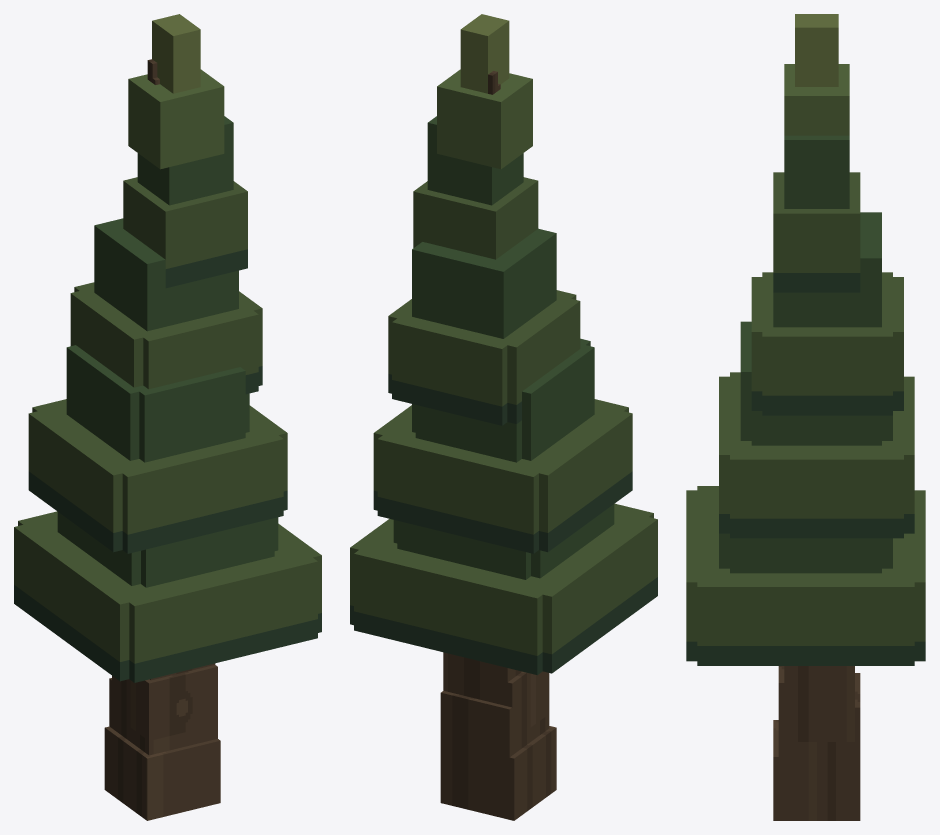
The model's file is pine_mature_2.glb.
The picture shows the model from 3 angles, left to right: view 1: azimuth 30°, elevation 25°; view 2: azimuth 150°, elevation 25°; view 3: azimuth 270°, elevation 25°; orthographic projection. The views are drawn at different scales.
Parts seen in each view (by area): view 1: VoxelVisual; view 2: VoxelVisual; view 3: VoxelVisual.
Boxes of the visible parts, x1,y1,x2,y2 form: VoxelVisual: [14, 14, 321, 820]; VoxelVisual: [350, 14, 657, 820]; VoxelVisual: [686, 14, 925, 820].
Size of what is drawn, in the model's own units: 5.5 by 20 by 5.5.
